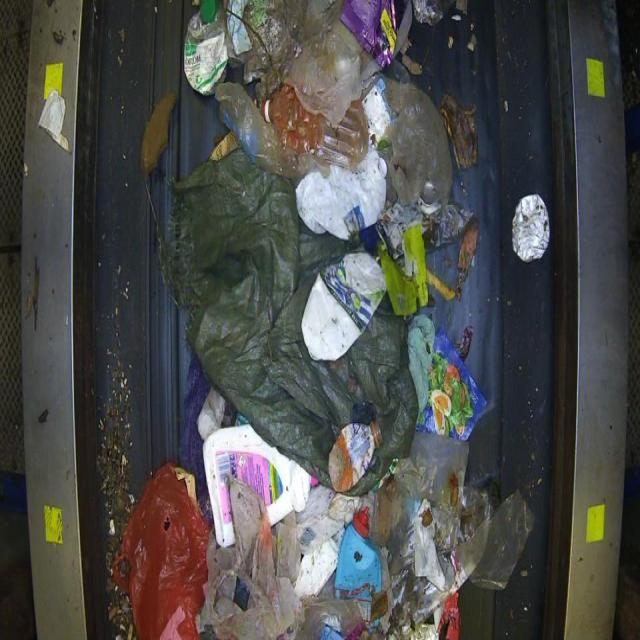cups: (201, 423, 312, 548)
other-trash: (126, 0, 527, 638)
